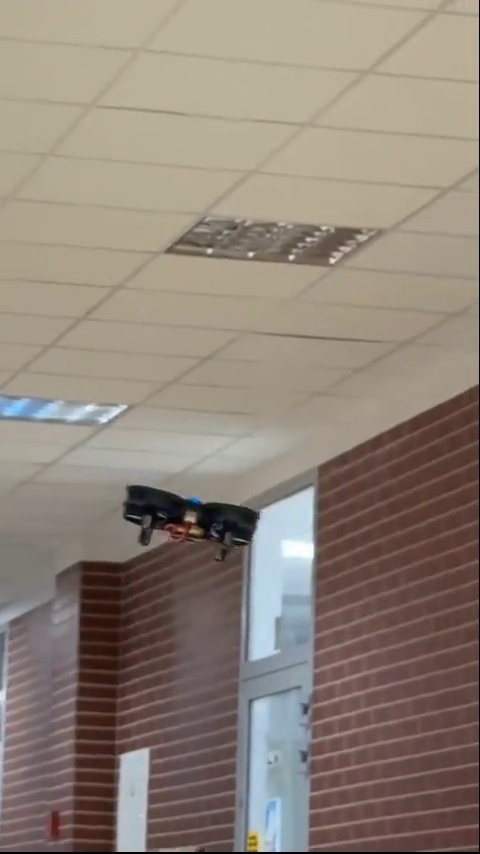drone: (128, 481, 253, 550)
